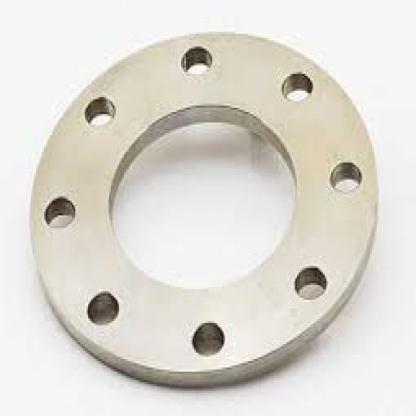FOD: (23, 32, 391, 388)
